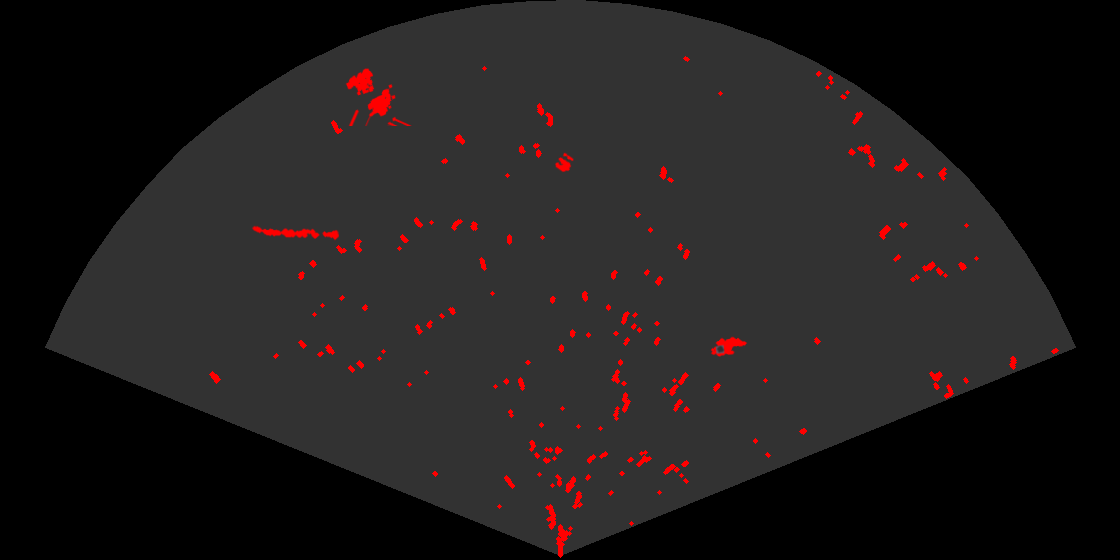AUV: (709, 335, 749, 358)
ball: (554, 151, 575, 174)
cage: (344, 67, 413, 126)
chain: (250, 224, 339, 242)
